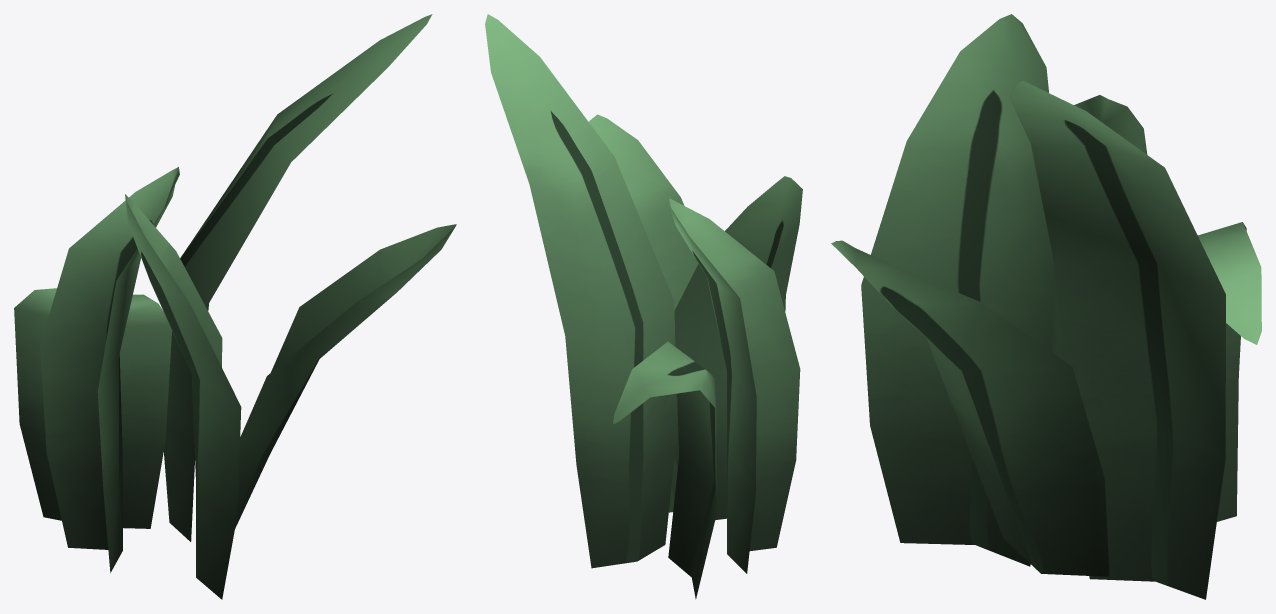
File: cesped_5.fbx
3 views of the same model, side by side, from view 1: azimuth 30°, elevation 25°; view 2: azimuth 150°, elevation 25°; view 3: azimuth 270°, elevation 25° (orthographic). The views are drawn at different scales.
Visible parts, largest first — view 1: cesped_5; view 2: cesped_5; view 3: cesped_5.
Part boxes in pixels (x1,y1,x2,y2): cesped_5: [14, 14, 456, 599]; cesped_5: [485, 14, 802, 599]; cesped_5: [831, 14, 1261, 599].
Size of the model in its own units: 6.09 by 7.09 by 9.87.
